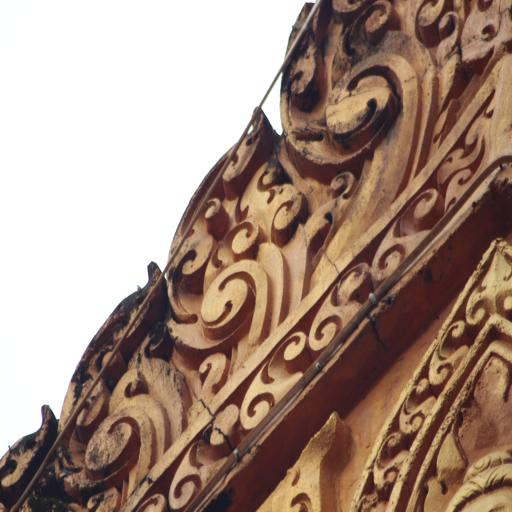hoa: (283, 13, 450, 193), (180, 135, 309, 346), (60, 284, 188, 484), (272, 417, 346, 512), (374, 183, 438, 290), (168, 410, 234, 512), (310, 261, 372, 356), (244, 330, 302, 421), (465, 248, 512, 326), (432, 319, 462, 391), (404, 375, 430, 435), (374, 436, 400, 492)
